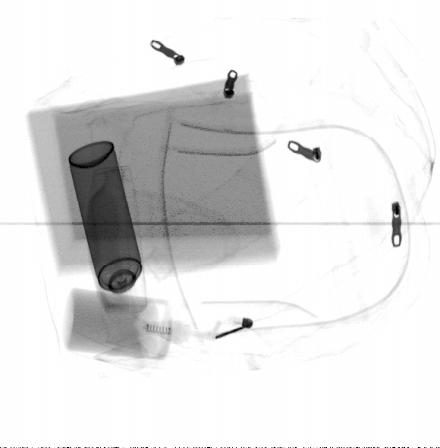Sprayer: (68, 139, 149, 320)
